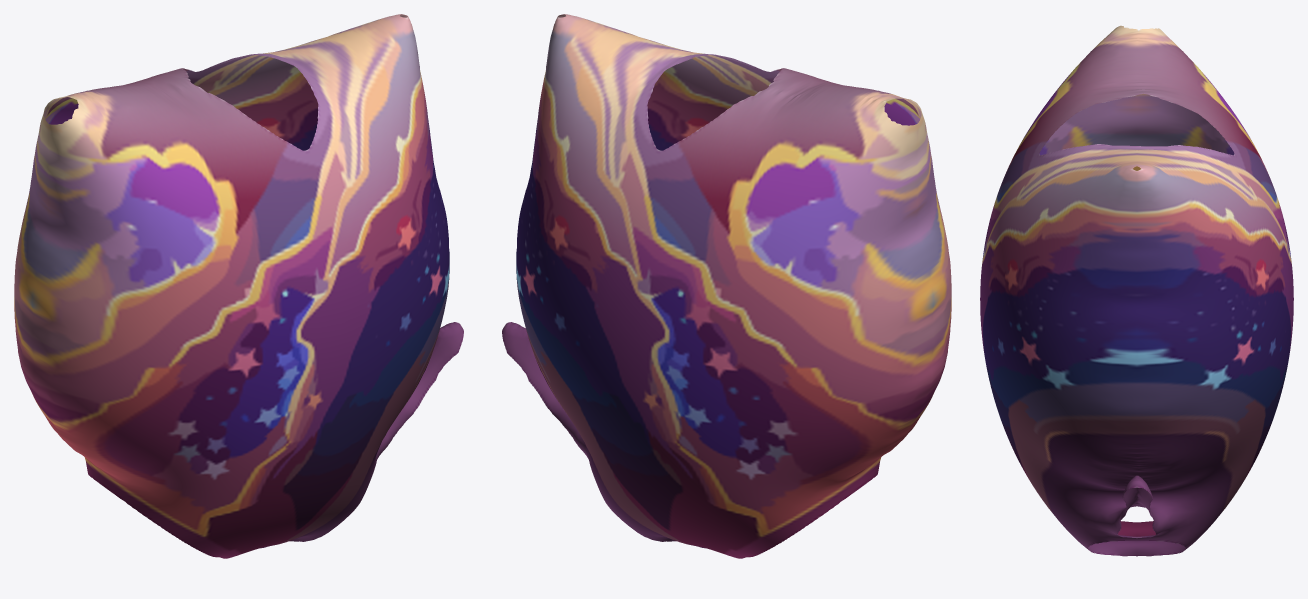
The model's file is Cat.fbx.
The picture shows the model from 3 angles, left to right: view 1: azimuth 30°, elevation 25°; view 2: azimuth 150°, elevation 25°; view 3: azimuth 270°, elevation 25°; orthographic projection. The views are drawn at different scales.
Parts seen in each view (by area): view 1: Cat; view 2: Cat; view 3: Cat.
Boxes of the visible parts, box(x1,y1,x2,y2) form: Cat: box(14, 14, 463, 558); Cat: box(502, 14, 951, 558); Cat: box(980, 25, 1293, 556).
Size of the model in its own units: 711 by 793 by 492.
